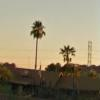Palm tree: (26, 14, 57, 70)
